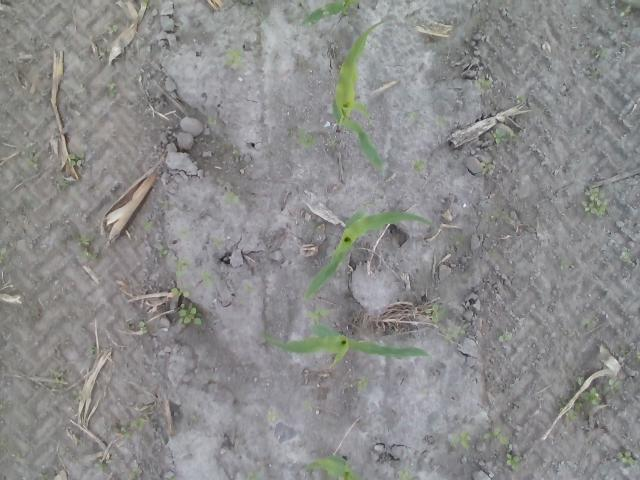Maize: (304, 209, 432, 293), (329, 19, 386, 172), (262, 324, 430, 366), (303, 0, 357, 27), (306, 455, 358, 480)
Weeds: (170, 286, 203, 328), (580, 186, 608, 218), (112, 418, 144, 440), (446, 428, 470, 450), (76, 232, 95, 258), (483, 427, 510, 445), (424, 303, 448, 321), (300, 306, 330, 320), (582, 386, 602, 406), (296, 126, 316, 146), (173, 255, 191, 277), (224, 46, 245, 64), (616, 450, 638, 465), (488, 126, 506, 144), (567, 402, 583, 422), (506, 453, 522, 472), (222, 191, 242, 204), (472, 76, 493, 88), (66, 152, 84, 166), (106, 78, 118, 99), (200, 271, 214, 289), (447, 326, 466, 338), (435, 114, 450, 128), (398, 469, 416, 480), (264, 408, 278, 422), (358, 376, 370, 392), (619, 0, 640, 9), (245, 471, 263, 480), (412, 159, 426, 170), (358, 101, 368, 116), (138, 320, 148, 335), (496, 334, 512, 343), (618, 251, 630, 263), (52, 370, 63, 383), (580, 320, 594, 330), (480, 161, 492, 172), (598, 48, 610, 59), (558, 258, 568, 270), (94, 460, 104, 472), (606, 378, 620, 386), (105, 24, 116, 34), (160, 248, 170, 258), (28, 158, 38, 168), (70, 390, 80, 400), (514, 96, 526, 104), (556, 399, 566, 408), (163, 472, 174, 480), (207, 114, 214, 126), (633, 351, 640, 360), (304, 400, 310, 409)
